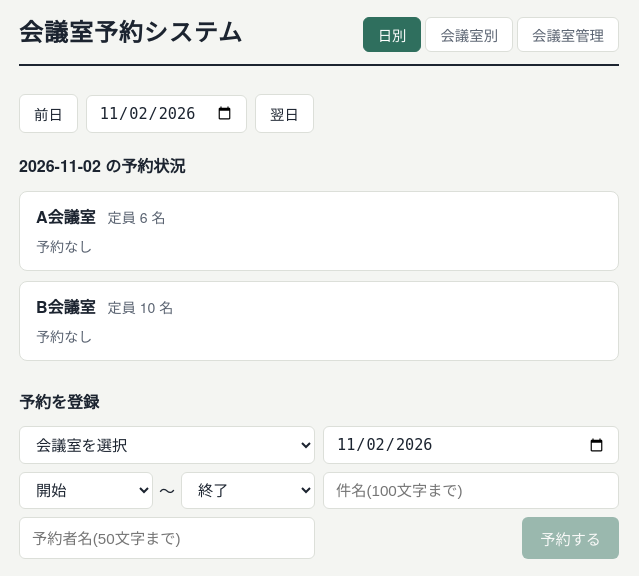
会議室管理 › 会議室名・定員が未入力、または定員が1未満の間は追加ボタンが押せない
Click the button "会議室管理": (568, 34) [517,17,619,52]
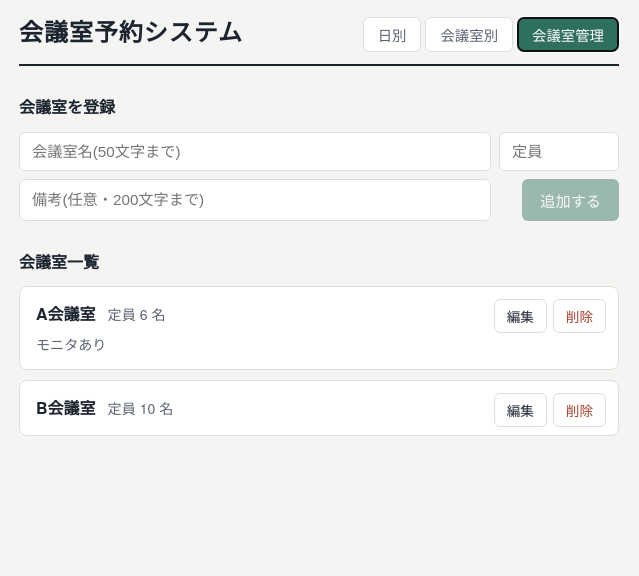
Check: the text "A会議室" is shown, box [36,301,96,327]
Check: the button "追加する" is disabled, box [522,179,619,221]
In the field labelled "会議室名": (255, 151) [19,132,491,171], type "C会議室"
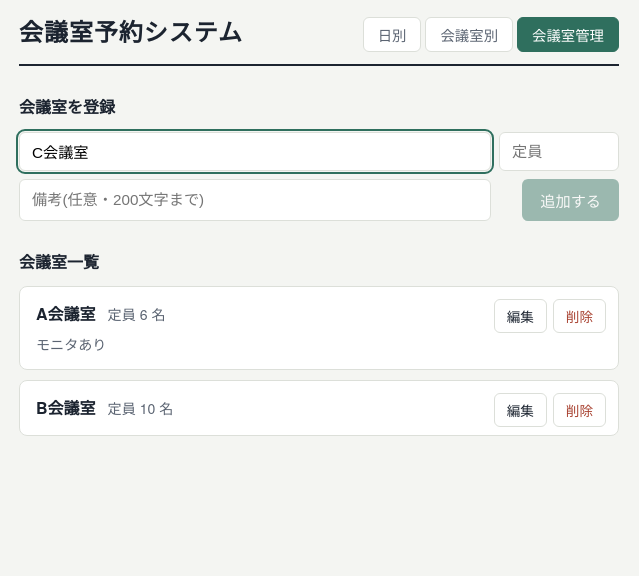
Check: the button "追加する" is disabled, box [522,179,619,221]
In the number field labelled "定員": (559, 151) [499,132,619,171], type "0"
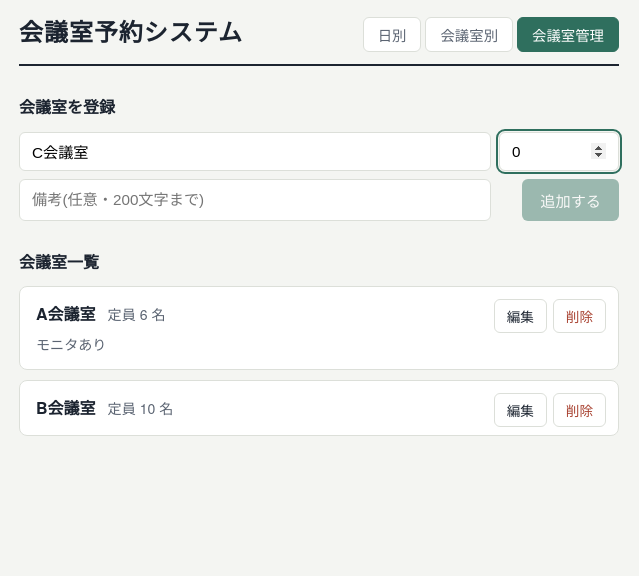
Check: the button "追加する" is disabled, box [522,179,619,221]
Replace the text in the number field named "定員" with "1": (559, 151) [499,132,619,171]
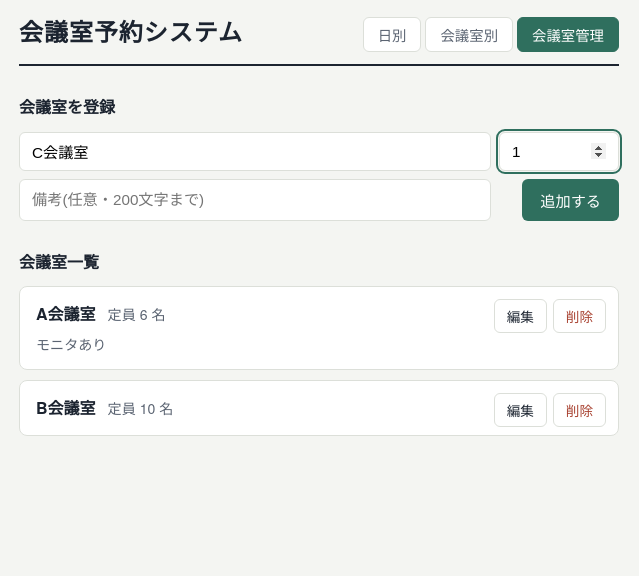
Check: the button "追加する" is enabled, box [522,179,619,221]
